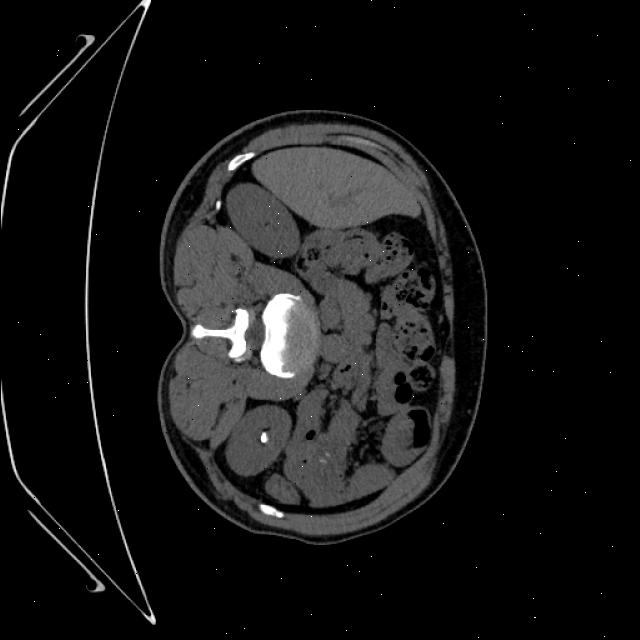kidneystone: (259, 431, 268, 442)
